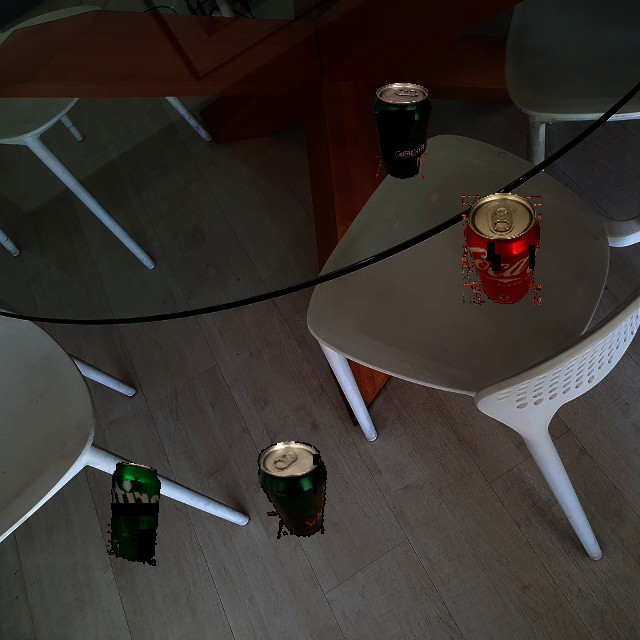coca cola: (462, 193, 541, 305)
schweppes: (253, 434, 338, 545), (373, 83, 432, 179)
sprite: (107, 460, 163, 566)
